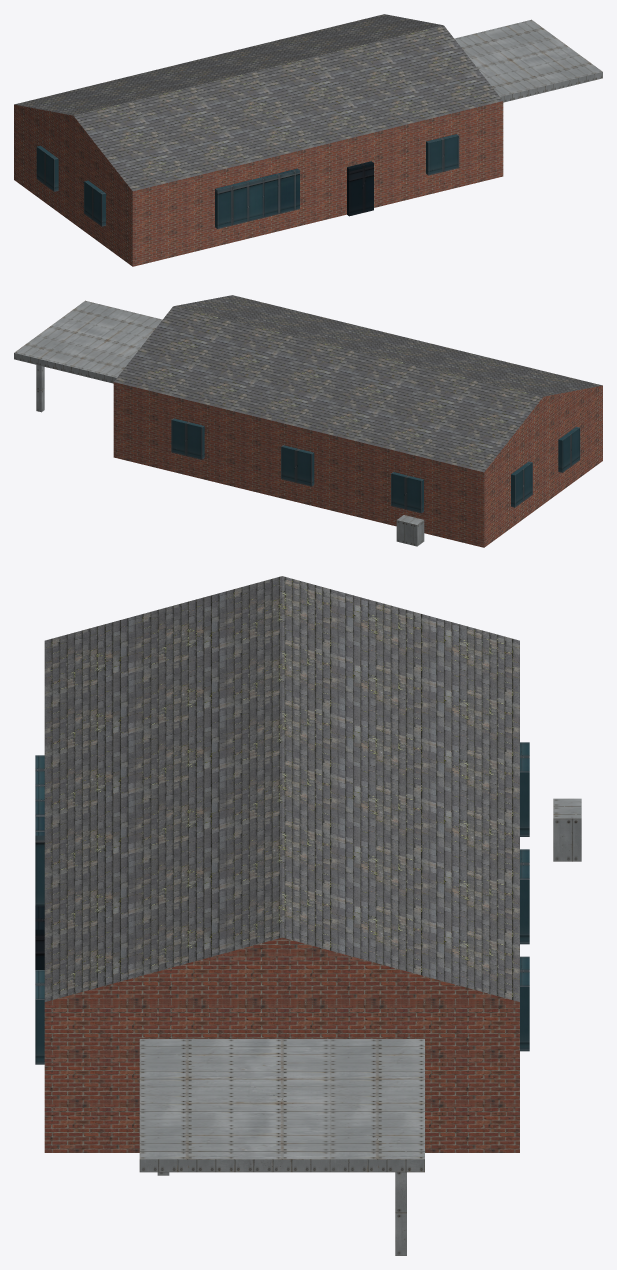
Rendered from ranch-house_lod0.gltf.
The picture shows the model from 3 angles, top to bottom: view 1: azimuth 30°, elevation 25°; view 2: azimuth 150°, elevation 25°; view 3: azimuth 270°, elevation 25°; orthographic projection. The views are drawn at different scales.
Parts seen in each view (by area): view 1: ranch-house_roof, ranch-house_walls, ranch-house__carport, ranch-house_fen_07-glass-curtain-blue_0, ranch-house_gable_ends, ranch-house_fen_07-glass-curtain-blue_1_t; view 2: ranch-house_roof, ranch-house_walls, ranch-house__carport, ranch-house_fen_07-glass-curtain-blue_0, ranch-house_gable_ends, ranch-house__grill, ranch-house__carport_post_b; view 3: ranch-house_roof, ranch-house_walls, ranch-house__carport, ranch-house_gable_ends, ranch-house_fen_07-glass-curtain-blue_0, ranch-house__grill, ranch-house__carport_post_b.
Boxes of the visible parts, left/top/right/bottom form: ranch-house_roof: left=14, top=14, right=502, bottom=191; ranch-house_walls: left=14, top=101, right=503, bottom=266; ranch-house__carport: left=454, top=19, right=602, bottom=102; ranch-house_fen_07-glass-curtain-blue_0: left=36, top=134, right=459, bottom=228; ranch-house_gable_ends: left=14, top=104, right=131, bottom=190; ranch-house_fen_07-glass-curtain-blue_1_t: left=347, top=161, right=373, bottom=216; ranch-house_roof: left=114, top=295, right=602, bottom=472; ranch-house_walls: left=113, top=382, right=602, bottom=547; ranch-house__carport: left=14, top=300, right=162, bottom=383; ranch-house_fen_07-glass-curtain-blue_0: left=171, top=418, right=580, bottom=513; ranch-house_gable_ends: left=485, top=385, right=602, bottom=471; ranch-house__grill: left=396, top=515, right=424, bottom=546; ranch-house__carport_post_b: left=36, top=365, right=44, bottom=412; ranch-house_roof: left=44, top=576, right=519, bottom=1001; ranch-house_walls: left=44, top=1002, right=519, bottom=1152; ranch-house__carport: left=139, top=1039, right=424, bottom=1172; ranch-house_gable_ends: left=45, top=937, right=519, bottom=1002; ranch-house_fen_07-glass-curtain-blue_0: left=35, top=742, right=529, bottom=1064; ranch-house__grill: left=553, top=798, right=581, bottom=861; ranch-house__carport_post_b: left=395, top=1172, right=406, bottom=1255.
Size of the model in its own units: 24.2 by 5 by 11.5.
